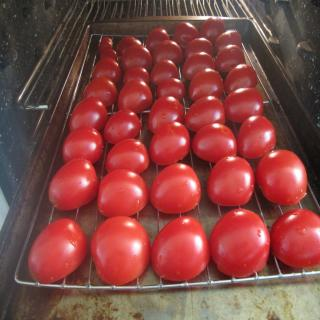tomato: (90, 212, 152, 285), (210, 208, 272, 278), (27, 216, 88, 284), (152, 215, 210, 280), (271, 205, 320, 269), (254, 149, 309, 205), (47, 157, 99, 210), (149, 162, 200, 212), (96, 168, 149, 216), (208, 153, 254, 207), (190, 122, 238, 164), (147, 120, 190, 165), (103, 137, 149, 175), (237, 114, 276, 158), (59, 126, 104, 164), (184, 96, 226, 131), (69, 96, 108, 132), (104, 107, 140, 146), (224, 88, 264, 123), (116, 78, 152, 114), (150, 96, 182, 134), (81, 78, 118, 108), (187, 69, 222, 99), (183, 52, 217, 81), (216, 43, 246, 74), (224, 65, 258, 92), (121, 44, 153, 70), (153, 40, 185, 66), (199, 16, 227, 44), (150, 58, 180, 84), (90, 58, 122, 82), (173, 22, 198, 48), (184, 36, 212, 59), (216, 28, 242, 52), (156, 78, 184, 99), (145, 27, 169, 51), (123, 66, 150, 86), (116, 36, 144, 55), (99, 36, 112, 55), (102, 49, 119, 61)
